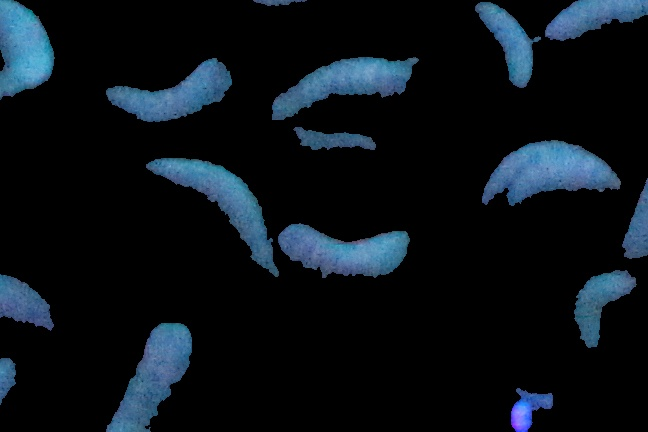larvae: (144, 157, 276, 280), (477, 141, 635, 212), (266, 51, 418, 119), (102, 56, 232, 132), (108, 322, 193, 432), (280, 219, 410, 280), (504, 157, 621, 211), (473, 1, 535, 91), (571, 270, 637, 353), (1, 1, 56, 100), (1, 272, 69, 337), (286, 122, 381, 166)
